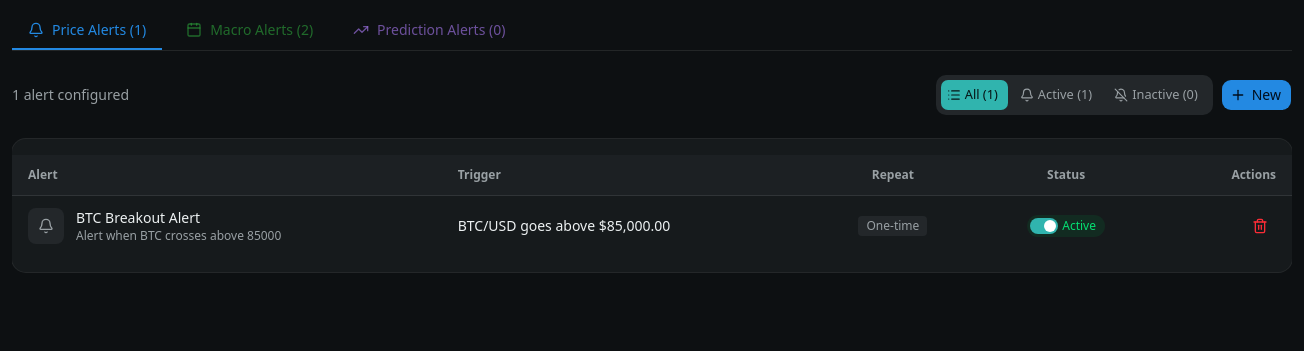
Scenario: AlertManagement › counts event-type subscriptions on the macro tab
Click the button "Macro Alerts (2)". click: (250, 31)
box: [170, 12, 329, 50]
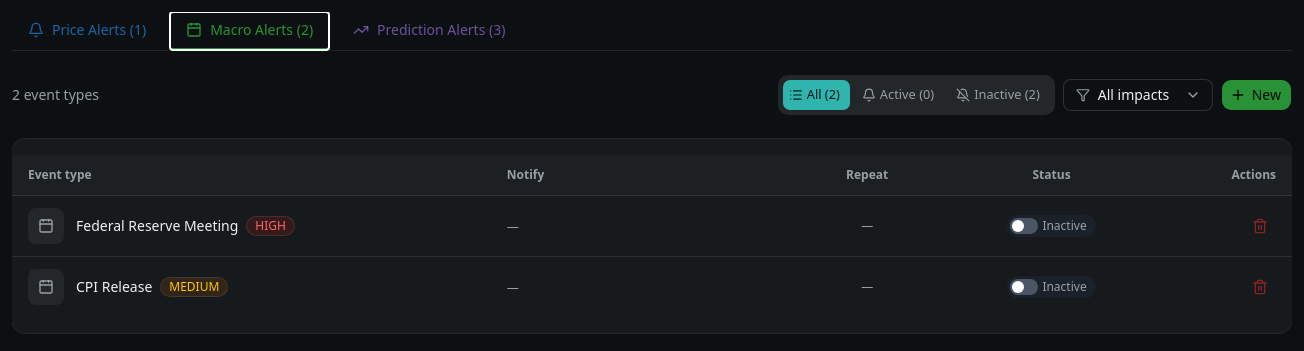
Expected: the text "2 event types" is shown, [12, 85, 99, 105]
